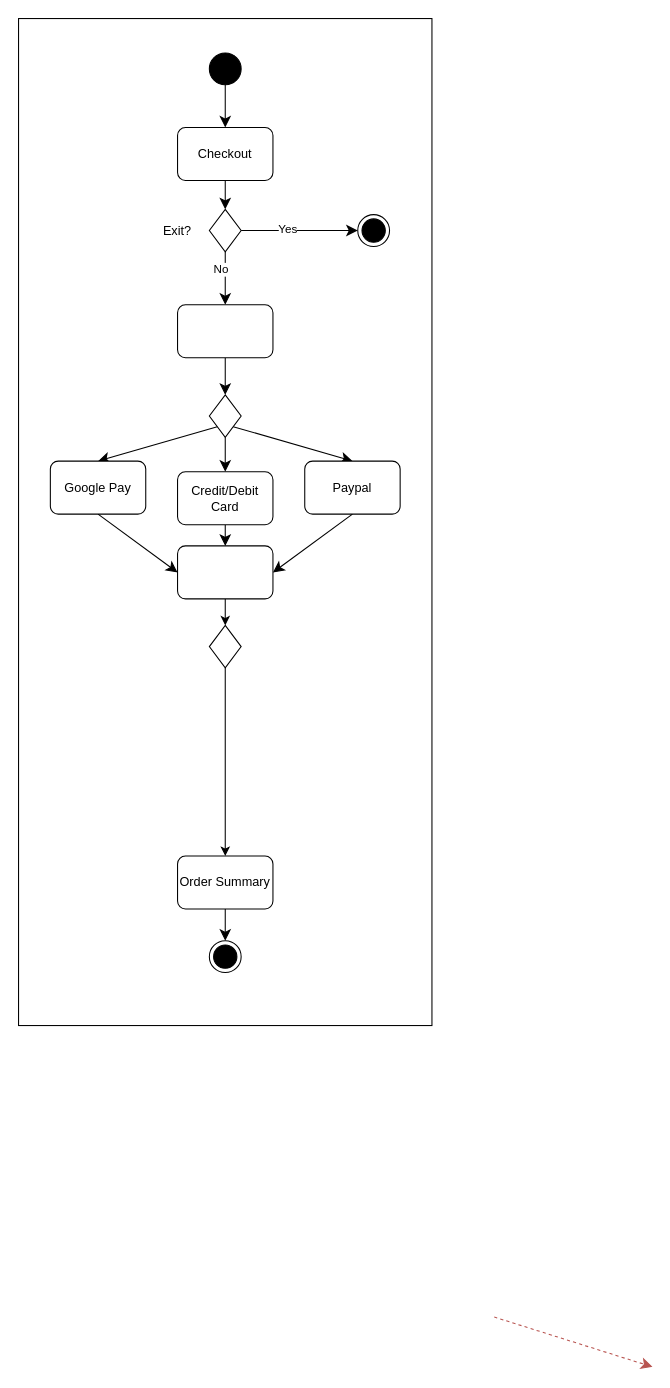
The diagram is 670 pixels wide and 1388 high, and some of its shapes have lost their labels. Each missing label, with the centre of its shape:
"Pay" goes at (224,572).
"Payment" goes at (224,331).
